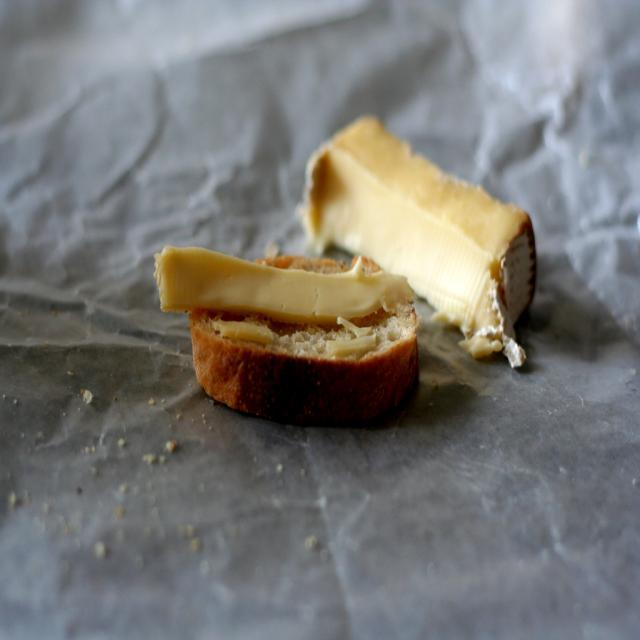Cheese: (301, 111, 541, 373), (157, 234, 399, 314)
